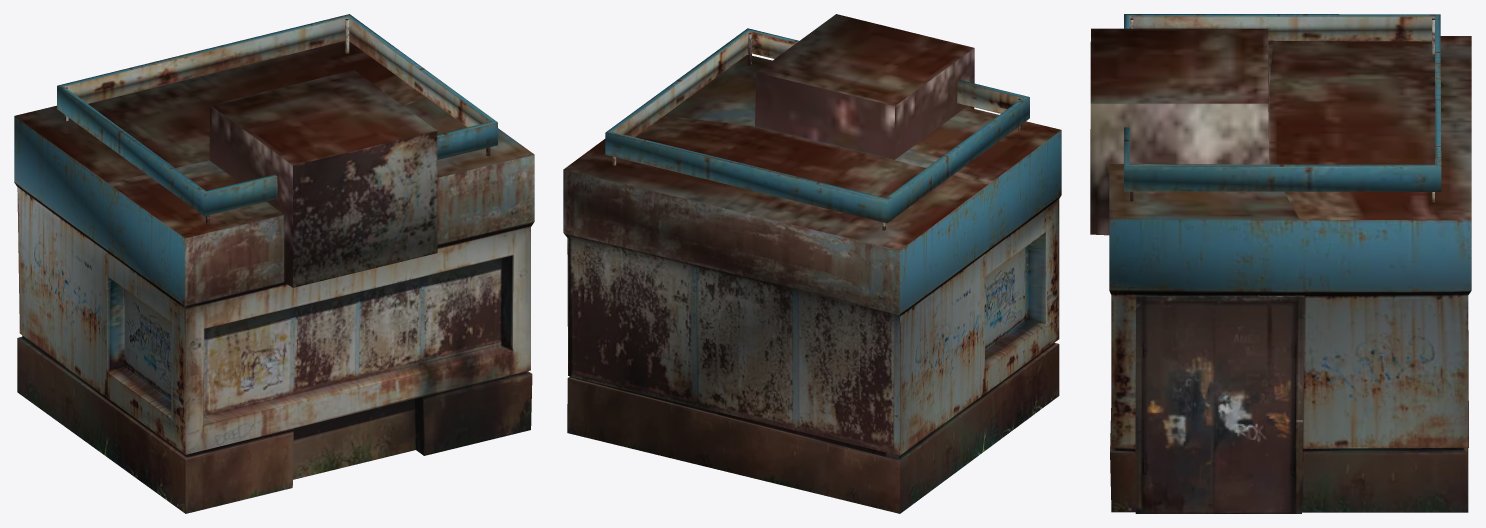
Rendered from tuckshop_kiosk.glb.
3 views of the same model, side by side, from view 1: azimuth 30°, elevation 25°; view 2: azimuth 150°, elevation 25°; view 3: azimuth 270°, elevation 25° (orthographic). The views are drawn at different scales.
Parts seen in each view (by area): view 1: tuckshop_kiosk; view 2: tuckshop_kiosk; view 3: tuckshop_kiosk.
Boxes of the visible parts, box(x1,y1,x2,y2) form: tuckshop_kiosk: box(14, 14, 534, 513); tuckshop_kiosk: box(563, 14, 1061, 513); tuckshop_kiosk: box(1090, 14, 1471, 513).
Bounding box in the file's own units: 2.82 × 2.55 × 2.48.
1 material, 1 textured.
